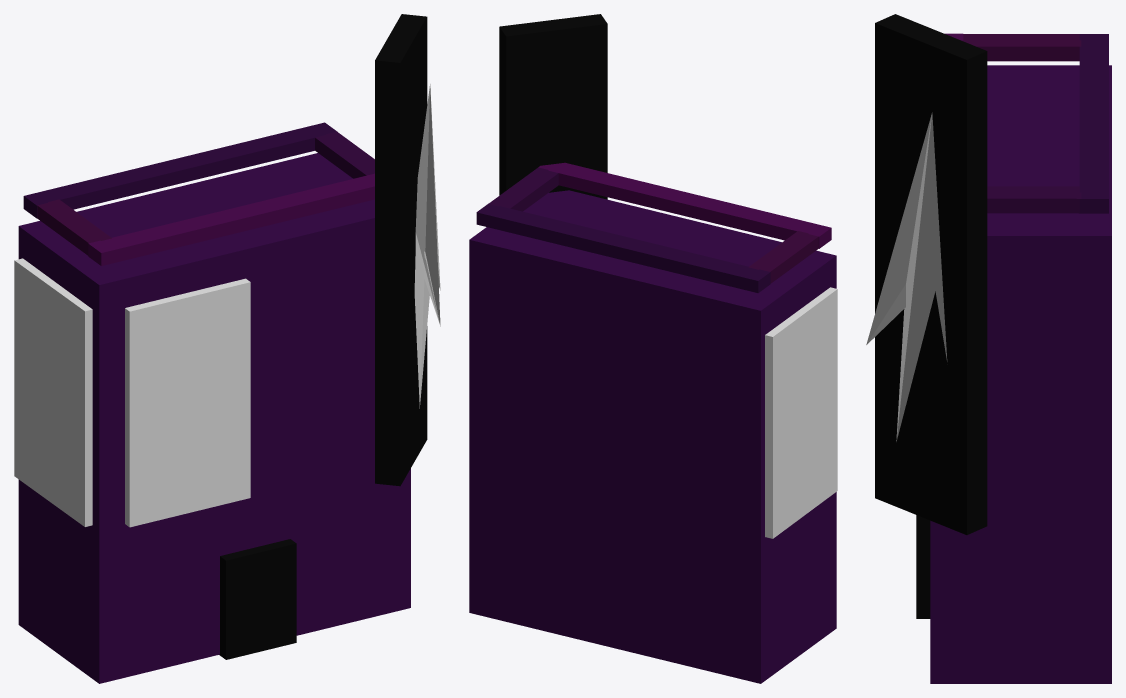
Rendered from галерея.fbx.
The picture shows the model from 3 angles, left to right: view 1: azimuth 30°, elevation 25°; view 2: azimuth 150°, elevation 25°; view 3: azimuth 270°, elevation 25°; orthographic projection. The views are drawn at different scales.
Visible parts, largest first — view 1: Cube, Cube.008, Cube.001, Cube.009, Cube.003, Cube.004, Cube.005, Cube.002, Cube.007, Cube.006; view 2: Cube, Cube.001, Cube.009, Cube.005, Cube.004, Cube.007, Cube.006; view 3: Cube, Cube.001, Cube.002, Cube.005, Cube.007, Cube.006, Cube.003.
Boxes of the visible parts, box(x1,y1,x2,y2) form: Cube: box(18, 153, 410, 683); Cube.008: box(125, 278, 250, 527); Cube.001: box(375, 14, 427, 486); Cube.009: box(14, 258, 92, 526); Cube.003: box(219, 539, 296, 659); Cube.004: box(88, 173, 374, 265); Cube.005: box(23, 122, 337, 218); Cube.002: box(414, 84, 440, 408); Cube.007: box(37, 199, 111, 255); Cube.006: box(315, 131, 374, 178); Cube: box(469, 190, 836, 683); Cube.001: box(499, 14, 607, 199); Cube.009: box(765, 287, 837, 538); Cube.005: box(476, 203, 770, 292); Cube.004: box(538, 162, 831, 248); Cube.007: box(748, 231, 818, 283); Cube.006: box(488, 167, 558, 211); Cube: box(930, 65, 1111, 683); Cube.001: box(875, 14, 987, 534); Cube.002: box(866, 112, 947, 441); Cube.005: box(1079, 34, 1108, 213); Cube.007: box(962, 34, 1081, 61); Cube.006: box(987, 186, 1081, 213); Cube.003: box(916, 515, 930, 618).
Bounding box in the file's own units: 3145 × 4813 × 1668.
